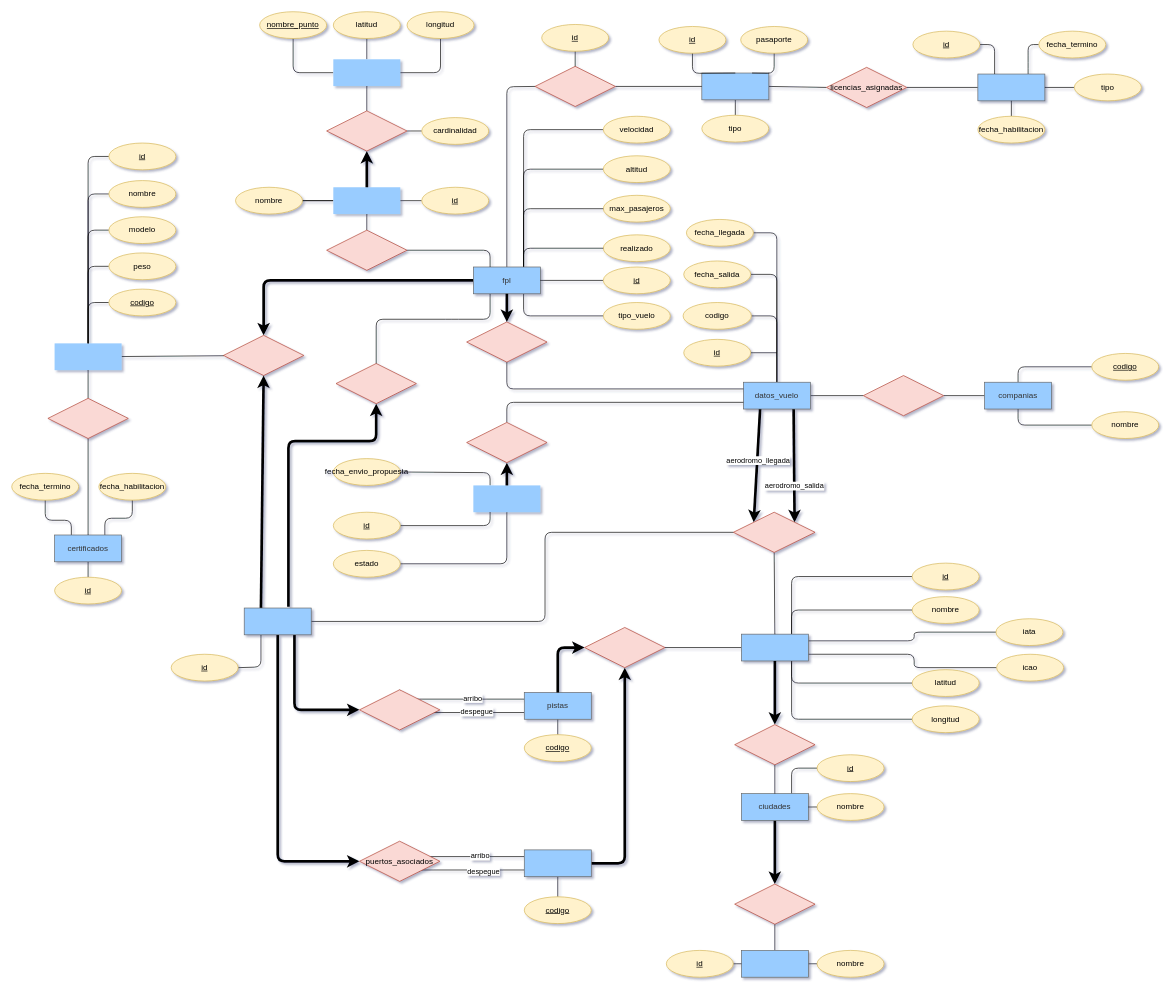
The diagram is 1175 pixels wide and 993 high, and some of its shapes have lost their labels. Each missing label, with the centre of its shape:
aerodromos: (774,647)
aerodromos_asignados: (774,532)
aeronave_asignada: (263,355)
aeronaves: (87,356)
aeronaves_certificadas: (87,418)
asociadas_a: (774,903)
asociados_a: (624,647)
companias_asociadas: (903,395)
id_asociado_flp: (506,341)
id_asociado_propuesta: (506,442)
licencias: (1011,87)
operaciones: (277,621)
ops_asociadas_flp: (375,383)
paises: (774,963)
pertenecen_a: (774,744)
pistas_asociadas: (399,709)
propuestas: (506,498)
puertos: (557,863)
puestos_:trabajo: (735,86)
puestos_asignados: (574,86)
puntos: (366,72)
puntos_asignados: (366,130)
rutas: (366,200)
rutas_asignadas: (366,249)
